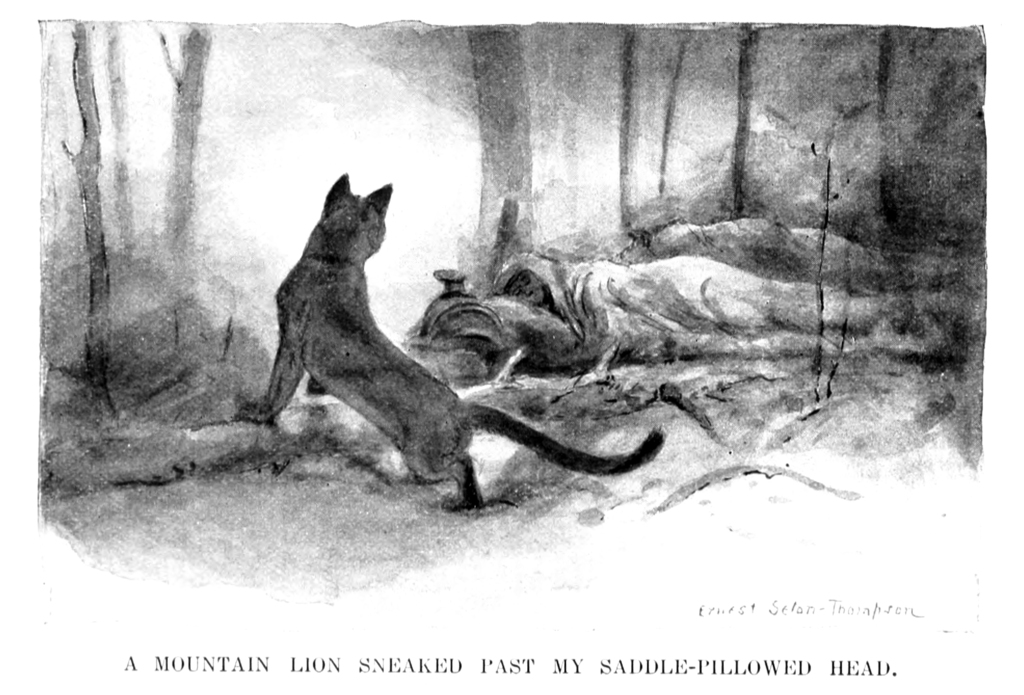Tree: (60, 18, 917, 420)
